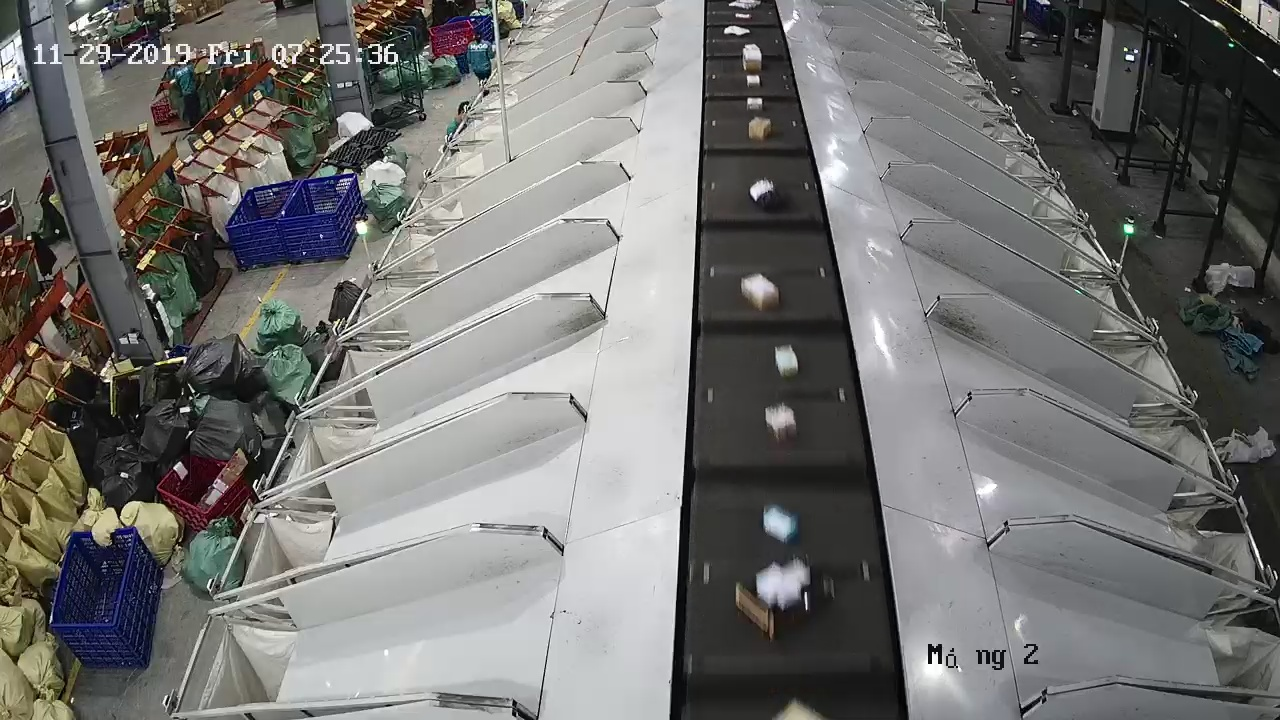parcel: (734, 554, 835, 644), (763, 503, 801, 547), (741, 272, 780, 313), (765, 405, 798, 444), (749, 179, 782, 212), (774, 344, 799, 379)
